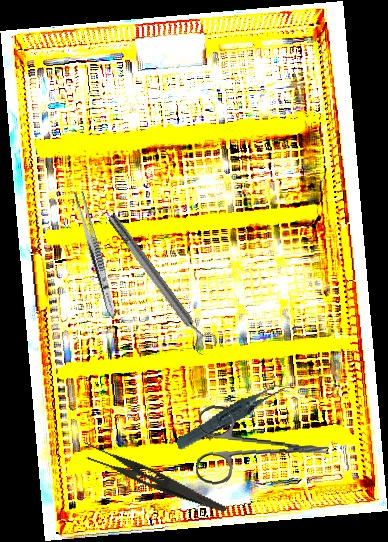Dressing Forceps: (76, 439, 233, 514), (70, 188, 121, 321)
Fixation Ring: (101, 207, 221, 359)
Iris Scissors: (195, 404, 332, 493)
Tissue Forceps: (169, 381, 298, 452)
